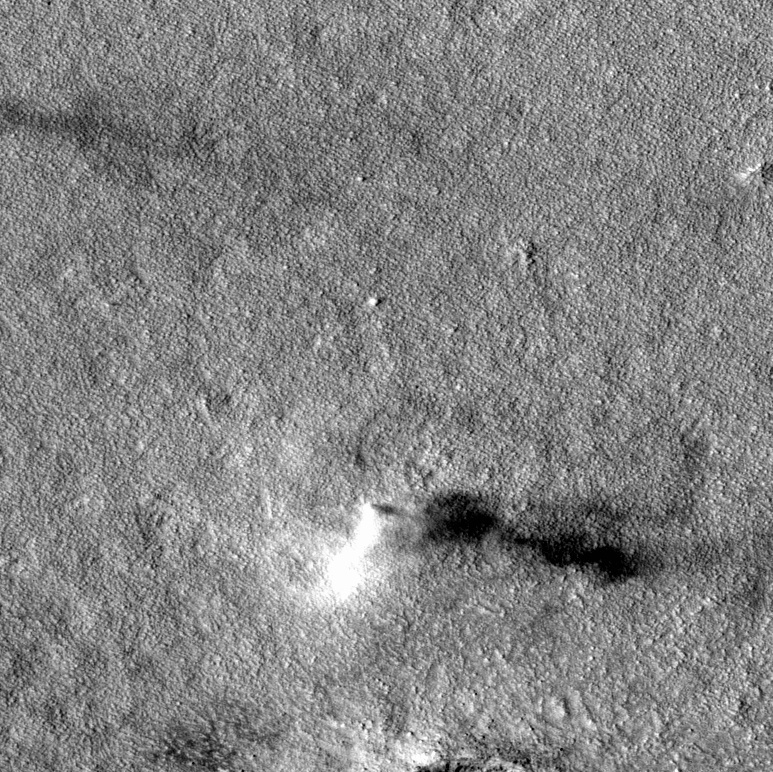dust_devil: (302, 489, 733, 615)
